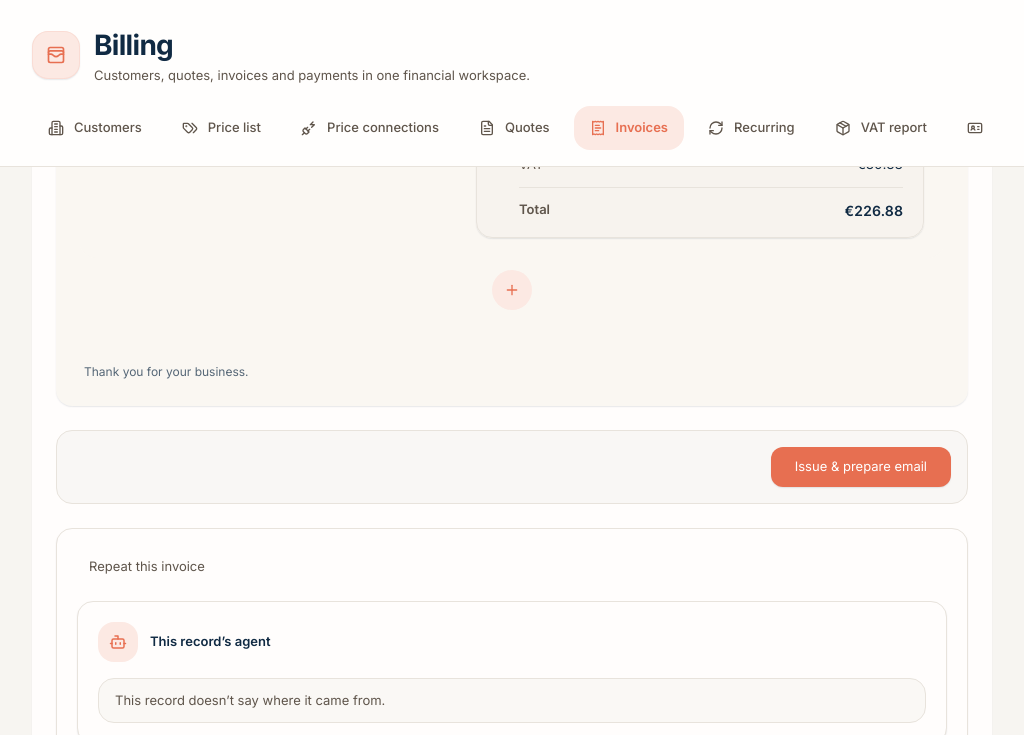
Test case: the lifecycle actions › a refused transition is reported in the server's own words
(page scrolled)
Check: the text "€226.88" is shown, box [844,200,903,220]
Step 1. Click the button "Issue & prepare email" → (861, 467), box [771,447,951,487]
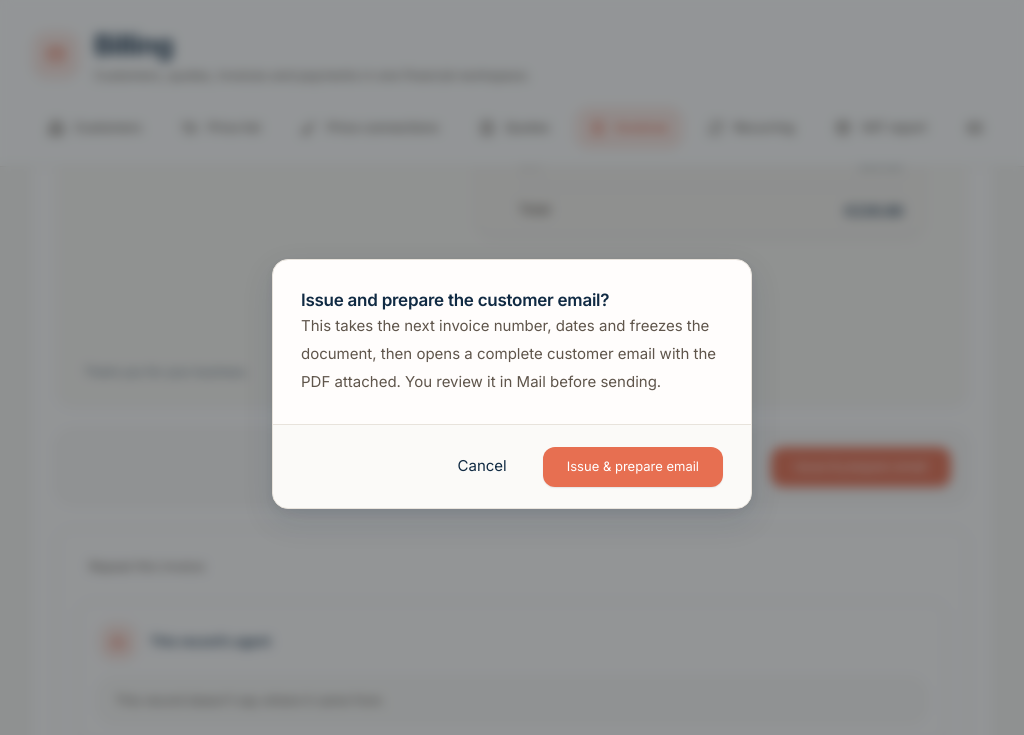
Check: the text "This takes the next invoice number, dates and freezes the document, then opens a complete customer email with the PDF at" is shown, box [301,316,720,391]
Step 2. Click the button "Issue & prepare email" → (633, 466), box [543,446,723,486]
(page scrolled)
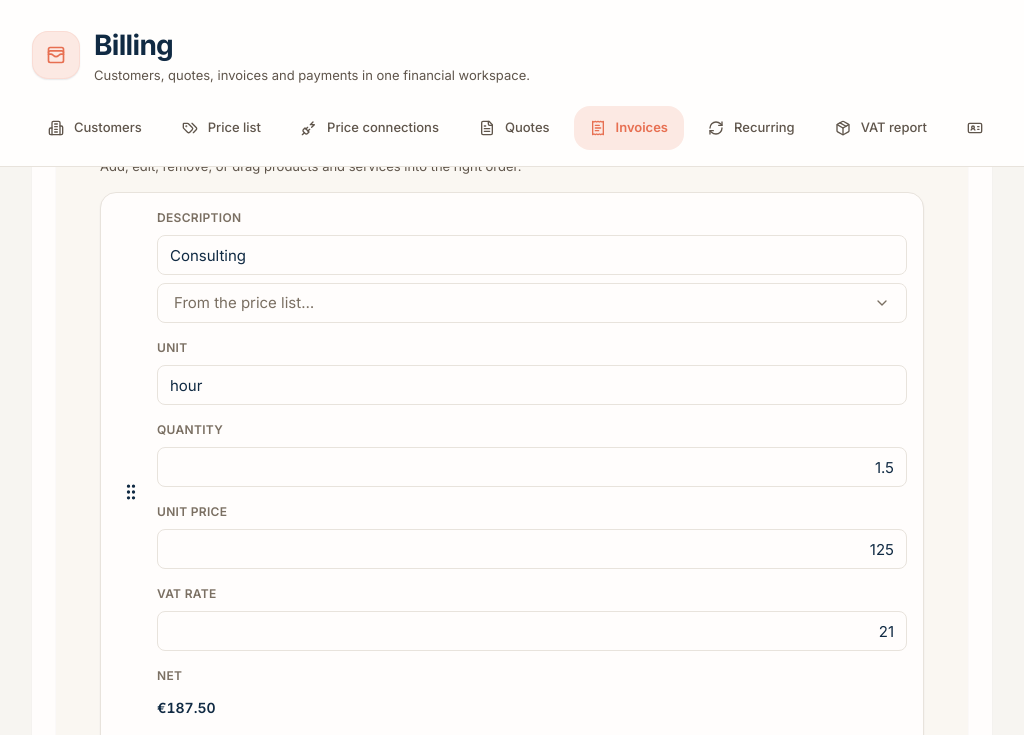
Check: the field labelled "Quantity" is shown, box [157,447,907,487]
